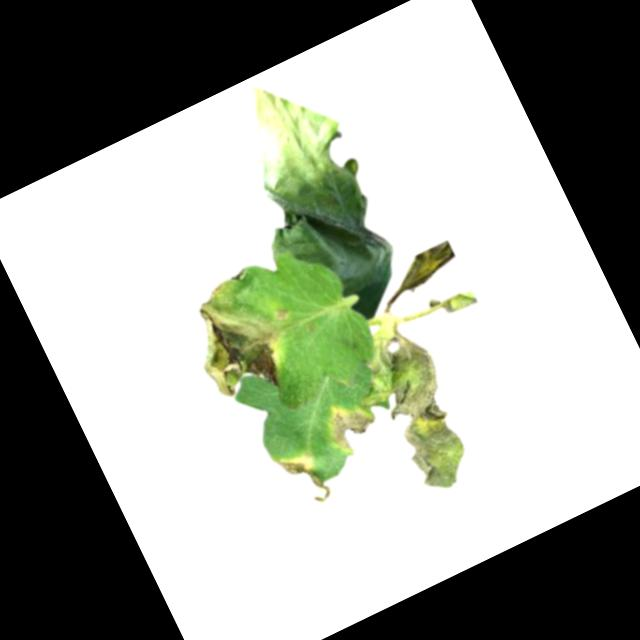Late_blight: (206, 58, 425, 343), (342, 317, 484, 502), (172, 269, 297, 412), (273, 444, 335, 513), (322, 398, 384, 460)
